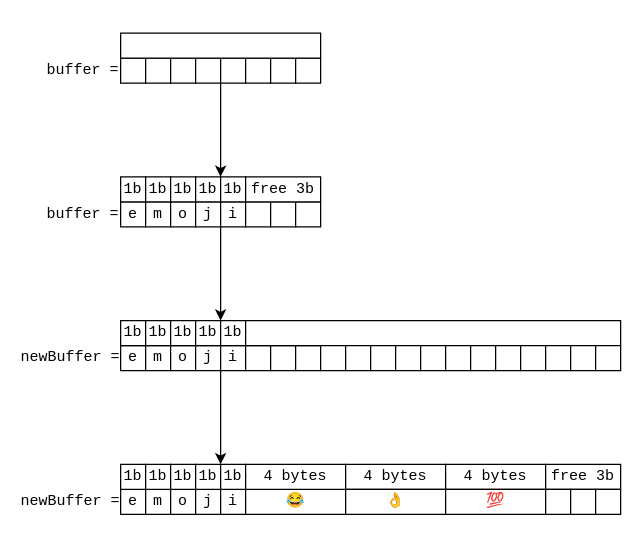
Some shapes in this 643 by 548 pixel diagram are drawn without their labels. Each missing label, with the box of its shape:
free (15 bytes): (244, 319, 621, 346)
free (8 bytes): (119, 32, 321, 58)
